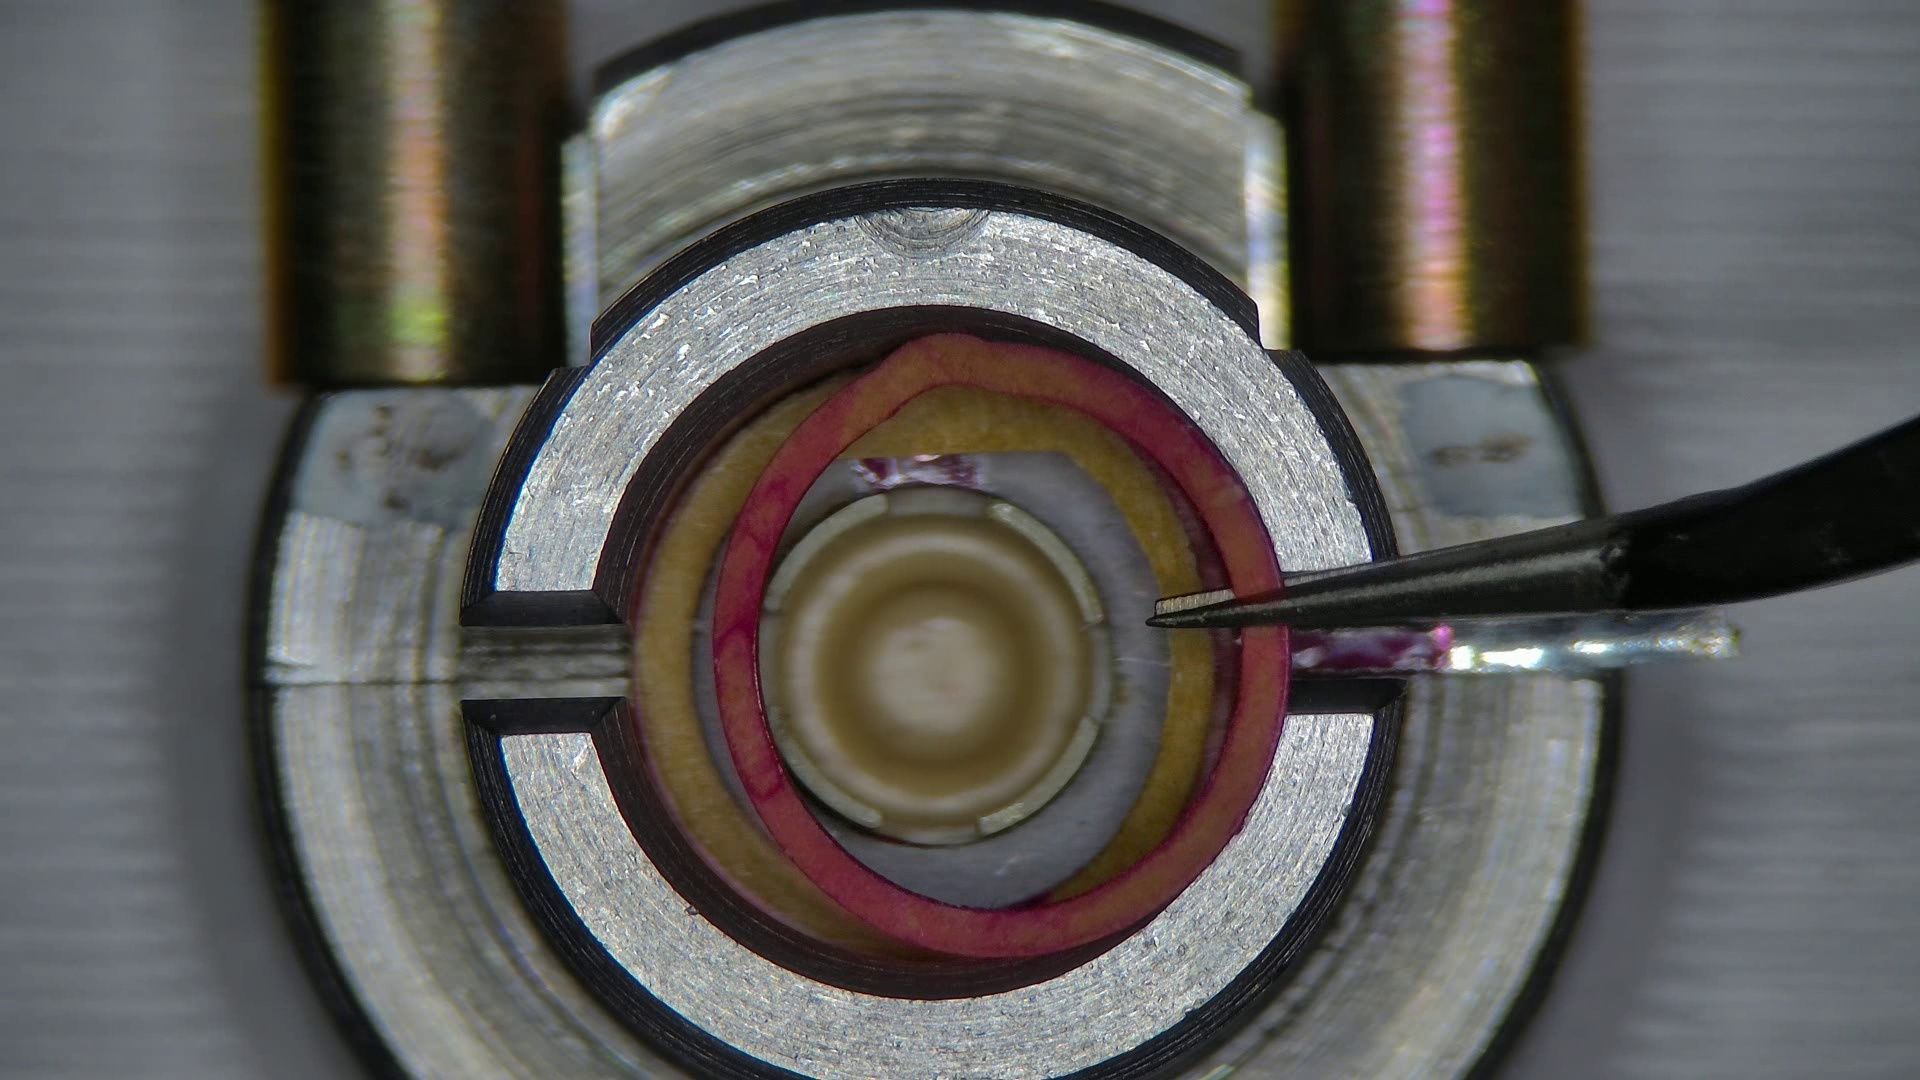GreyOring: (715, 332, 1284, 957)
YellowOring: (781, 454, 1164, 906), (774, 728, 779, 752)
redOring: (644, 386, 827, 924), (843, 382, 1209, 595), (1050, 632, 1209, 890)
